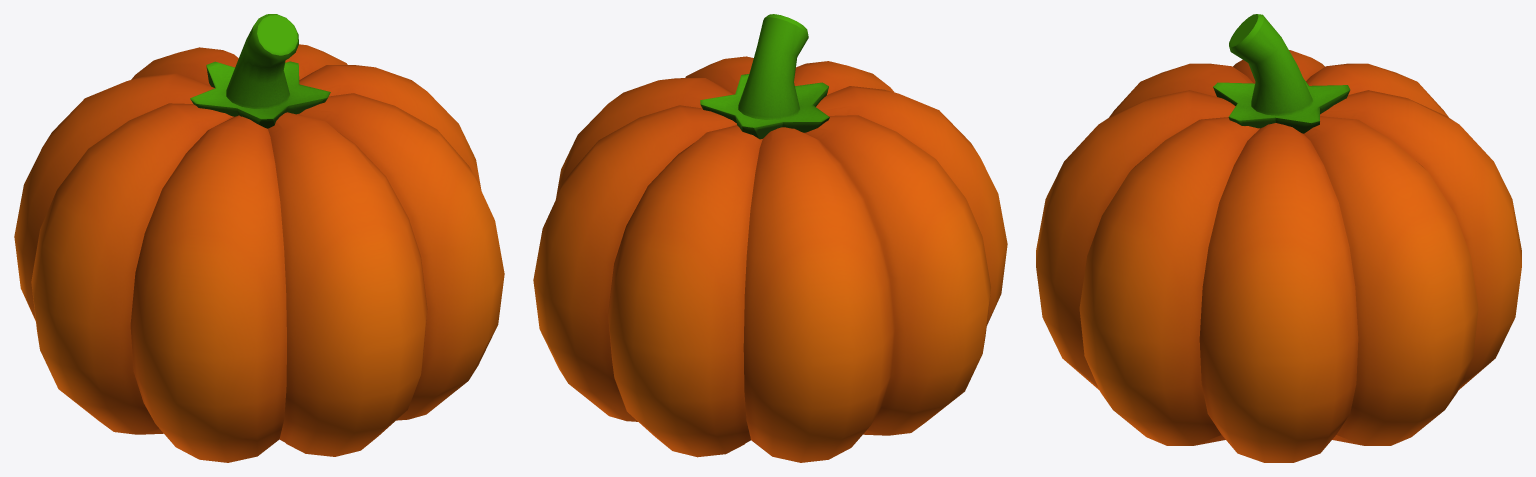
File: pumpkin_orange.fbx
3 renders of one model, left to right at view 1: azimuth 30°, elevation 25°; view 2: azimuth 150°, elevation 25°; view 3: azimuth 270°, elevation 25°, orthographic. The views are drawn at different scales.
Visible parts, largest first — view 1: pumpkin_orange; view 2: pumpkin_orange; view 3: pumpkin_orange.
Boxes of the visible parts, <box> form: pumpkin_orange: <box>14,14,504,462</box>; pumpkin_orange: <box>533,14,1007,462</box>; pumpkin_orange: <box>1036,14,1521,462</box>.
Size of the model in its own units: 1.4 by 1.24 by 1.4.
